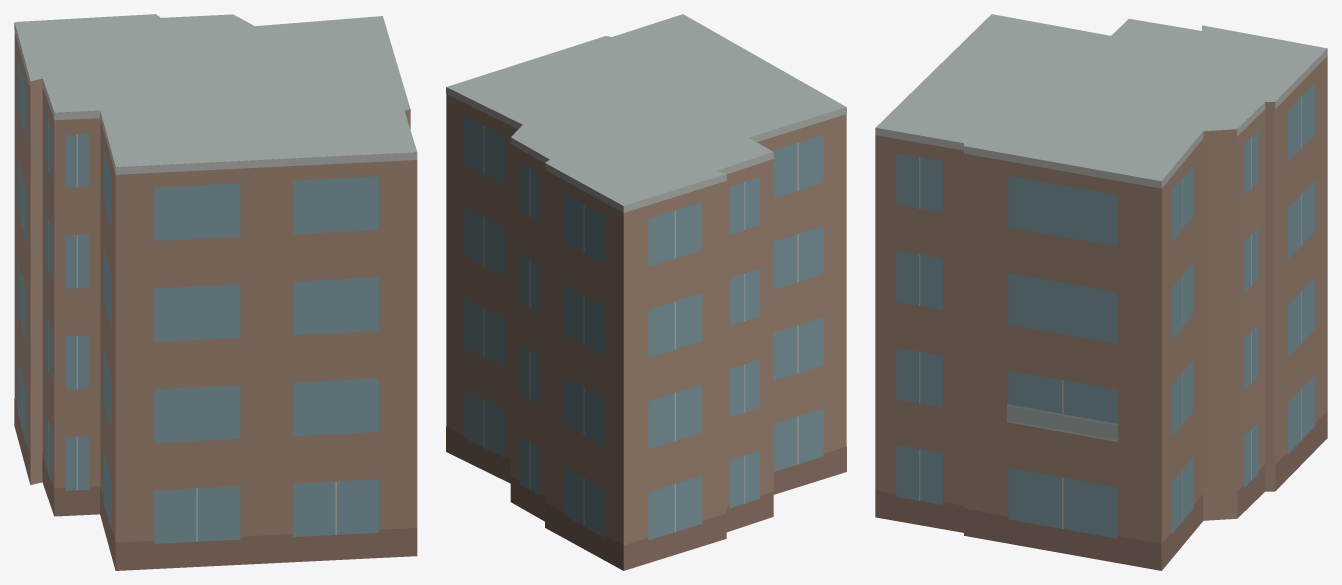
The model's file is survey-upis-33013526.glb.
3 renders of one model, left to right at view 1: azimuth 30°, elevation 25°; view 2: azimuth 150°, elevation 25°; view 3: azimuth 270°, elevation 25°, orthographic. The views are drawn at different scales.
Visible parts, largest first — view 1: survey-upis-33013526.tmp; view 2: survey-upis-33013526.tmp; view 3: survey-upis-33013526.tmp.
Boxes of the visible parts, x1,y1,x2,y2 form: survey-upis-33013526.tmp: (14,14,417,570); survey-upis-33013526.tmp: (446,14,846,570); survey-upis-33013526.tmp: (875,14,1327,570).
Bounding box in the file's own units: 11.89 × 12.9 × 13.58.
